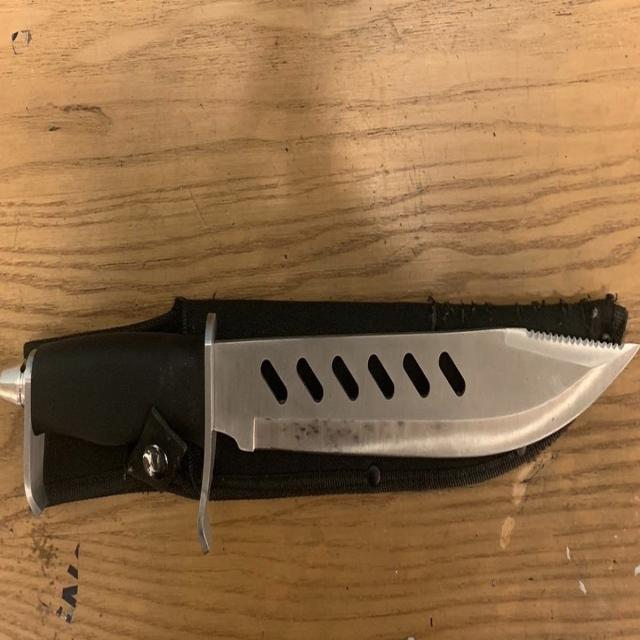Sharp-Object: (2, 341, 640, 498)
